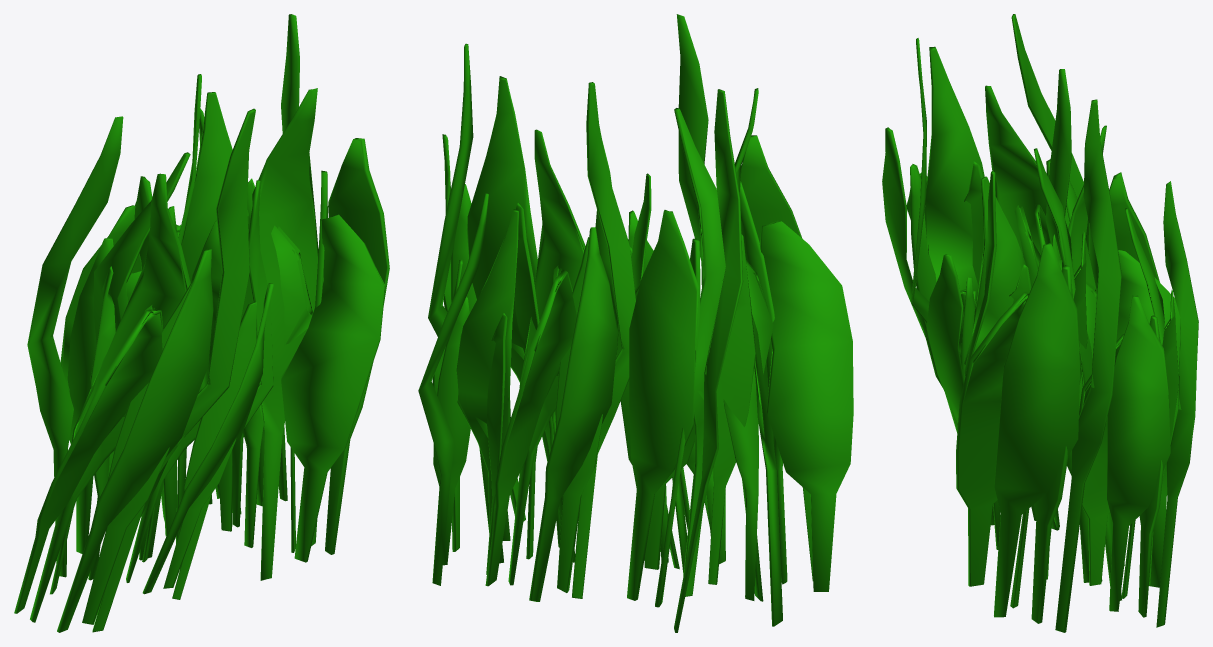
Rendered from SeaWeed.fbx.
3 views of the same model, side by side, from view 1: azimuth 30°, elevation 25°; view 2: azimuth 150°, elevation 25°; view 3: azimuth 270°, elevation 25° (orthographic). The views are drawn at different scales.
Visible parts, largest first — view 1: Plane.002; view 2: Plane.002; view 3: Plane.002.
Part boxes in pixels (x1,y1,x2,y2): Plane.002: (14,14,389,632); Plane.002: (418,14,853,632); Plane.002: (882,14,1198,632).
Size of the model in its own units: 1214 by 1628 by 862.
